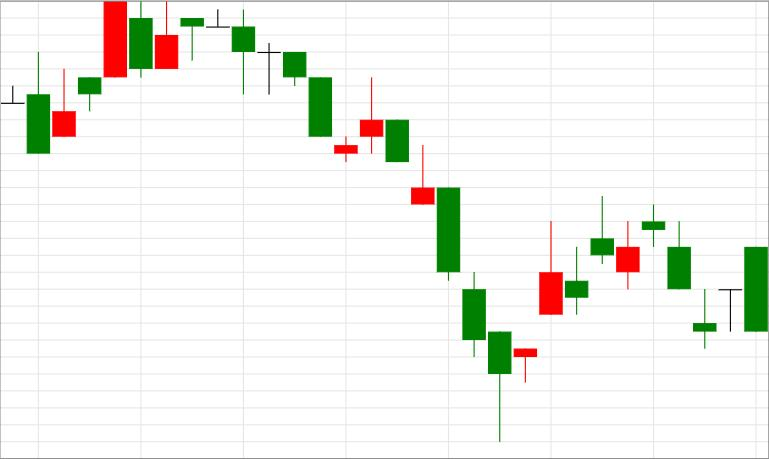hammer_rise: (232, 9, 511, 440)
